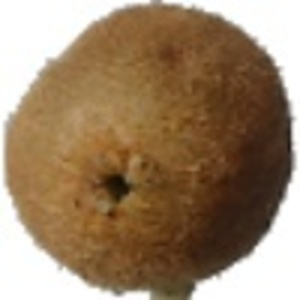kiwi: (1, 1, 297, 300)
